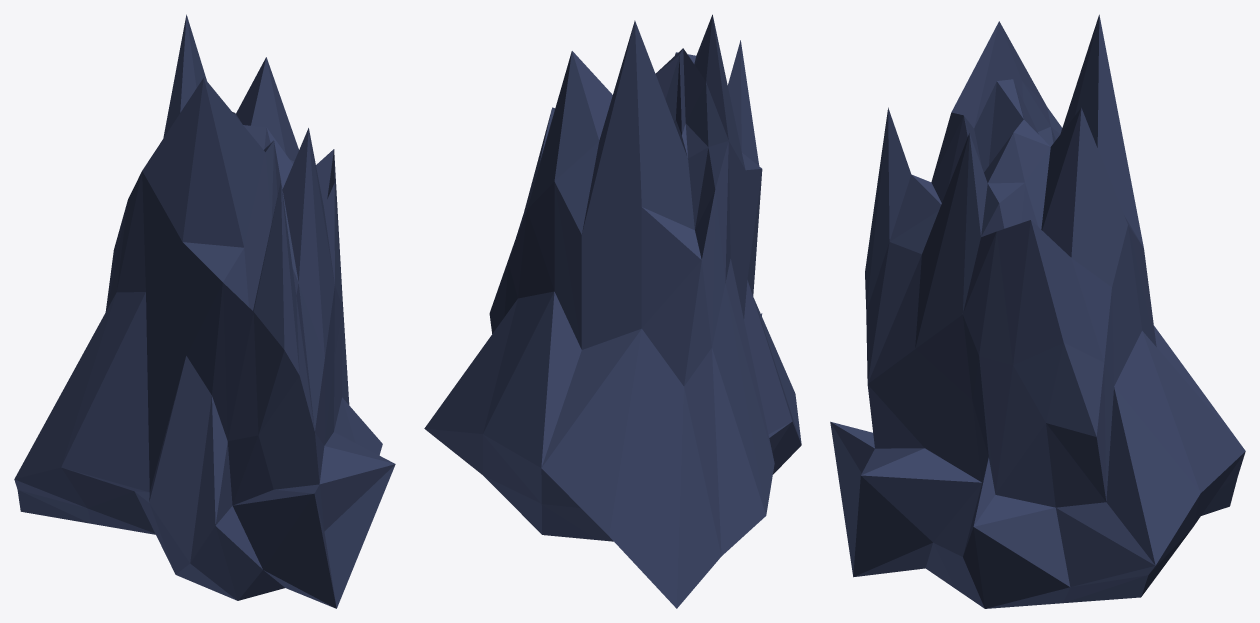
Rendered from Spikestone 6.fbx.
3 renders of one model, left to right at view 1: azimuth 30°, elevation 25°; view 2: azimuth 150°, elevation 25°; view 3: azimuth 270°, elevation 25°, orthographic. The views are drawn at different scales.
Visible parts, largest first — view 1: Spikestone Size 6; view 2: Spikestone Size 6; view 3: Spikestone Size 6.
Boxes of the visible parts, bbox=[...] form: Spikestone Size 6: bbox=[14, 14, 395, 608]; Spikestone Size 6: bbox=[424, 14, 801, 608]; Spikestone Size 6: bbox=[830, 14, 1245, 608].
Bounding box in the file's own units: 1178 × 1736 × 1198.
